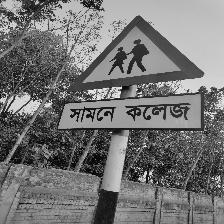College-in-front: (28, 6, 224, 131)
